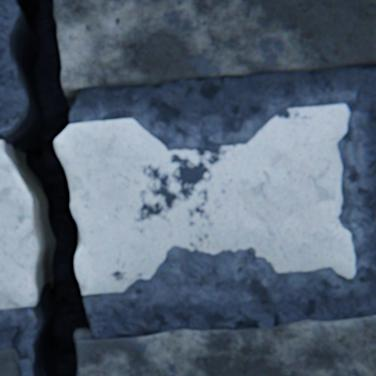brick: (54, 0, 375, 93), (76, 315, 375, 375), (0, 348, 19, 375)
broken_brick: (54, 105, 353, 294), (0, 141, 38, 309)
crack: (0, 0, 91, 375)
